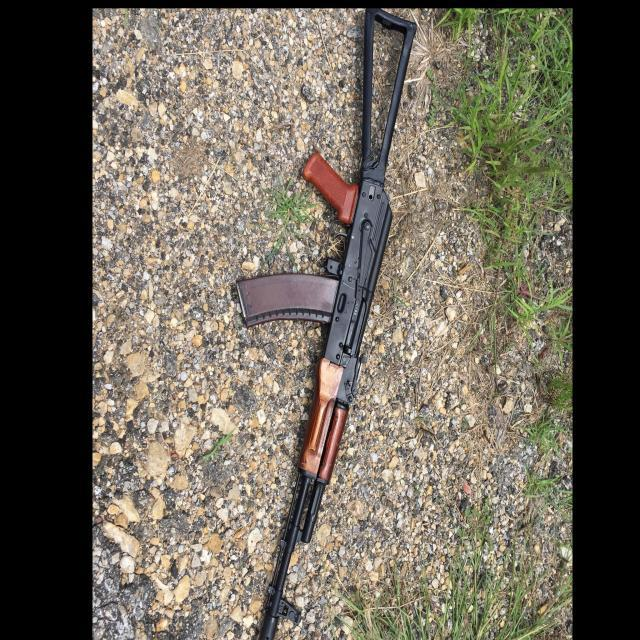weapon: (235, 7, 418, 640)
